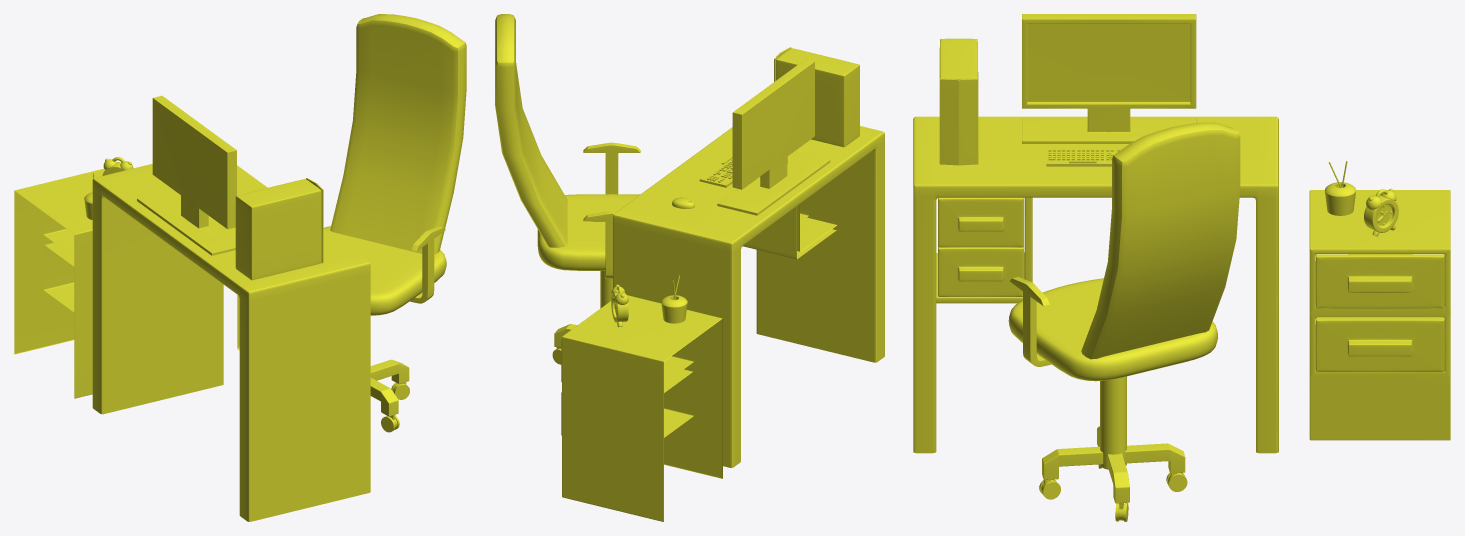
3 renders of one model, left to right at view 1: azimuth 30°, elevation 25°; view 2: azimuth 150°, elevation 25°; view 3: azimuth 270°, elevation 25°, orthographic. The views are drawn at different scales.
Visible parts, largest first — view 1: Uv_002; view 2: Uv_002; view 3: Uv_002.
Boxes of the visible parts, <box> form: Uv_002: <box>14,14,466,521</box>; Uv_002: <box>495,14,884,521</box>; Uv_002: <box>913,14,1450,521</box>.
Bounding box in the file's own units: 119 × 129 × 152.
